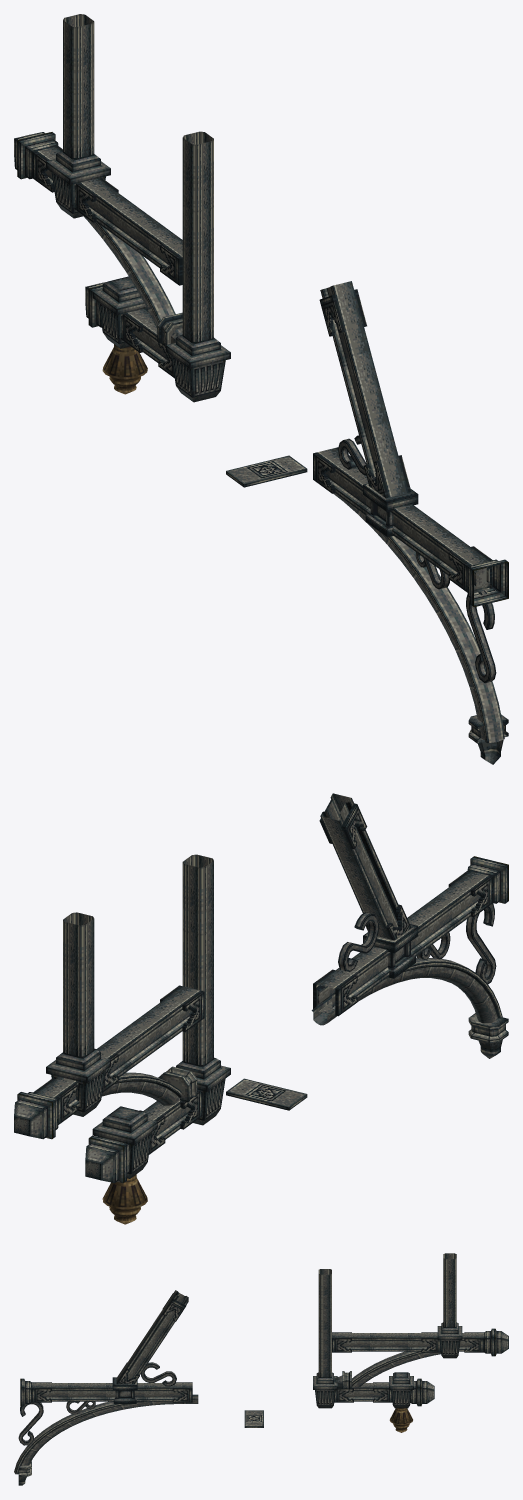
Rendered from EnvMdrMD_Daiseidou_A_Joist_A.FBX.
3 renders of one model, top to bottom at view 1: azimuth 30°, elevation 25°; view 2: azimuth 150°, elevation 25°; view 3: azimuth 270°, elevation 25°, orthographic. The views are drawn at different scales.
Parts seen in each view (by area): view 1: EnvMdrMD_Daiseidou_A_Joist_A_Top, EnvMdrMD_Daiseidou_A_Joist_A, EnvMdrMD_Daiseidou_A_Joist_Cross_A; view 2: EnvMdrMD_Daiseidou_A_Joist_A_Top, EnvMdrMD_Daiseidou_A_Joist_A, EnvMdrMD_Daiseidou_A_Joist_Cross_A; view 3: EnvMdrMD_Daiseidou_A_Joist_A_Top, EnvMdrMD_Daiseidou_A_Joist_A, EnvMdrMD_Daiseidou_A_Joist_Cross_A.
Part boxes in pixels (bbox=[...]): EnvMdrMD_Daiseidou_A_Joist_A_Top: bbox=[14, 14, 230, 402]; EnvMdrMD_Daiseidou_A_Joist_A: bbox=[313, 281, 508, 764]; EnvMdrMD_Daiseidou_A_Joist_Cross_A: bbox=[226, 455, 307, 487]; EnvMdrMD_Daiseidou_A_Joist_A_Top: bbox=[14, 854, 230, 1224]; EnvMdrMD_Daiseidou_A_Joist_A: bbox=[311, 793, 508, 1058]; EnvMdrMD_Daiseidou_A_Joist_Cross_A: bbox=[226, 1078, 307, 1110]; EnvMdrMD_Daiseidou_A_Joist_A_Top: bbox=[313, 1253, 508, 1432]; EnvMdrMD_Daiseidou_A_Joist_A: bbox=[14, 1290, 198, 1485]; EnvMdrMD_Daiseidou_A_Joist_Cross_A: bbox=[244, 1410, 263, 1427].
Bounding box in the file's own units: 200 × 1330 × 2601.
Materials: 1 (1 with a texture image).
